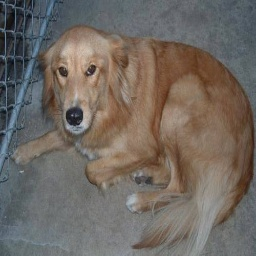dog: (12, 25, 256, 256)
